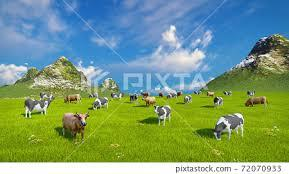cow: (211, 112, 244, 140), (62, 111, 90, 142), (24, 97, 48, 118), (153, 104, 172, 126), (244, 96, 269, 107), (92, 96, 109, 111), (39, 90, 56, 104), (63, 93, 82, 104), (141, 95, 157, 107), (110, 91, 124, 101), (213, 96, 223, 107), (183, 94, 192, 105), (129, 94, 138, 103), (223, 90, 233, 97), (246, 89, 256, 96), (206, 90, 215, 97)
